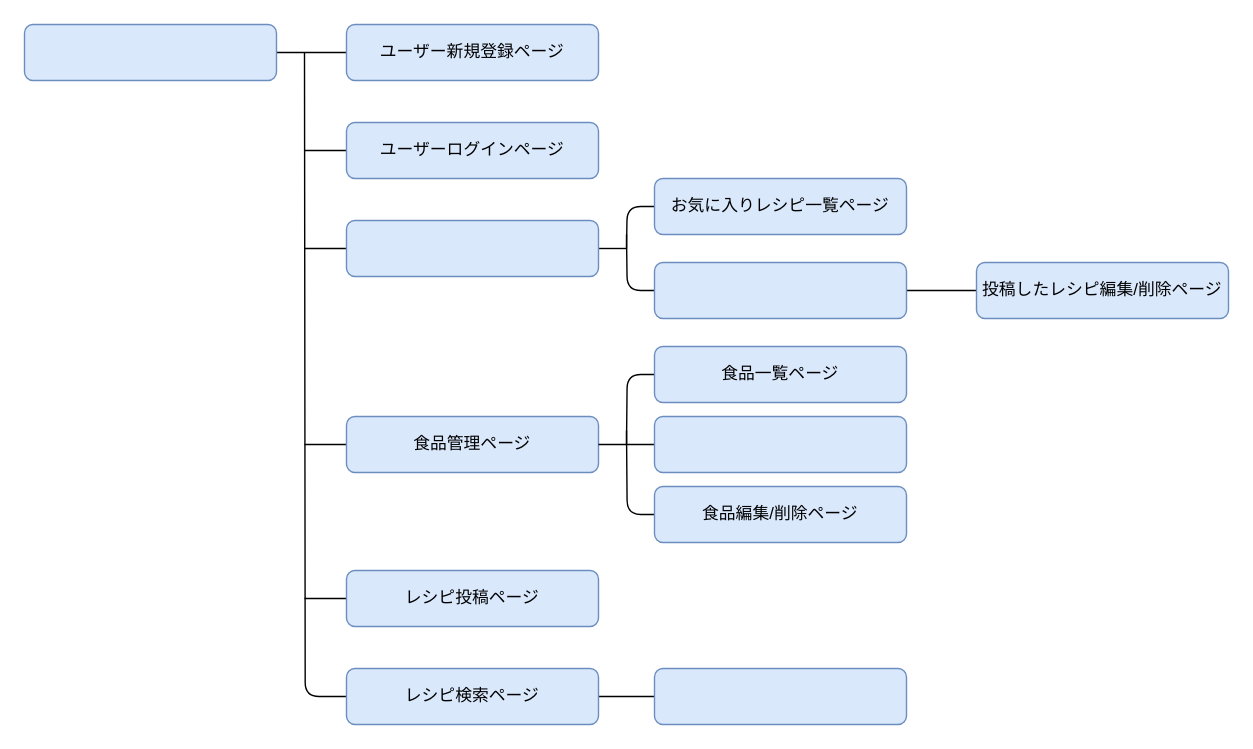
The diagram is 1253 pixels wide and 749 high, and some of its shapes have lost their labels. Each missing label, with the centre of its shape:
ユーザーマイページ: point (471, 247)
レシピ検索結果ページ: point (779, 695)
一覧ページ(トップページ): point (149, 51)
投稿したレシピ一覧ページ: point (779, 289)
食品登録ページ: point (779, 443)
